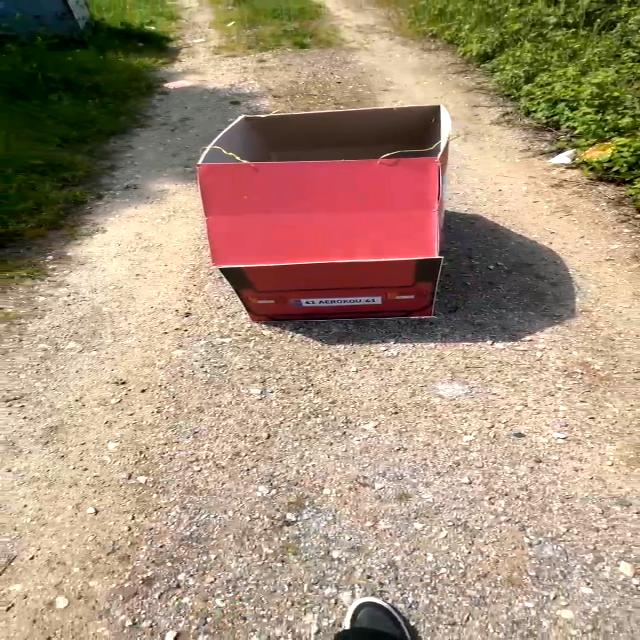red_car: (169, 85, 489, 347)
